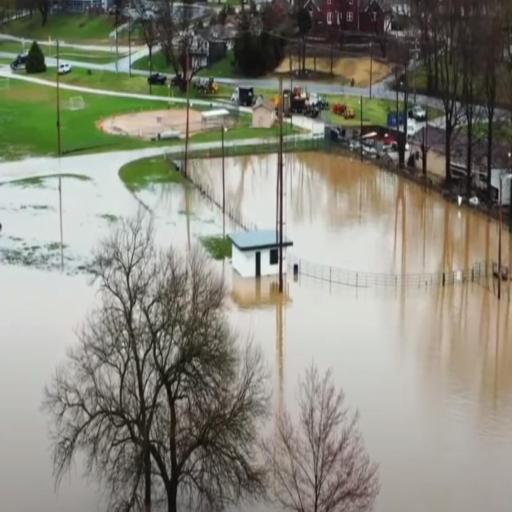flood: (214, 151, 512, 510), (0, 150, 221, 510), (226, 153, 277, 229), (288, 114, 325, 139), (225, 135, 278, 147), (190, 140, 221, 151)
house: (233, 228, 279, 287), (310, 0, 360, 35), (363, 0, 393, 35), (254, 99, 276, 131)
